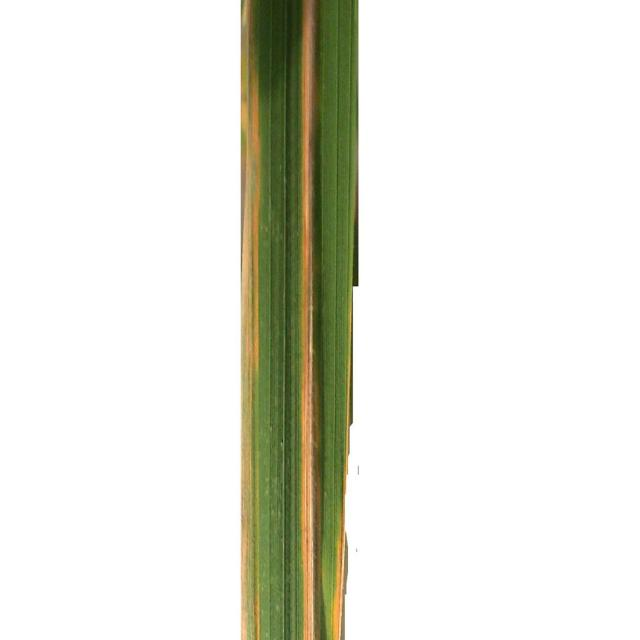Bacterial leaf blight: (289, 0, 322, 640), (236, 1, 262, 640), (328, 252, 350, 640)
